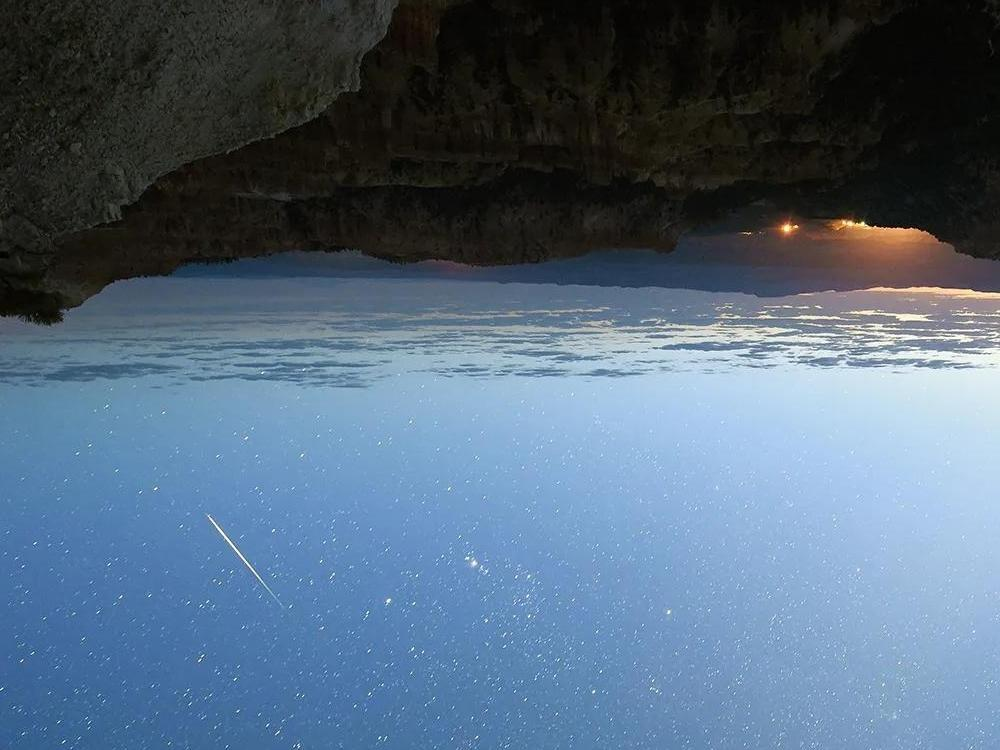meteorite: (187, 513, 296, 601)
